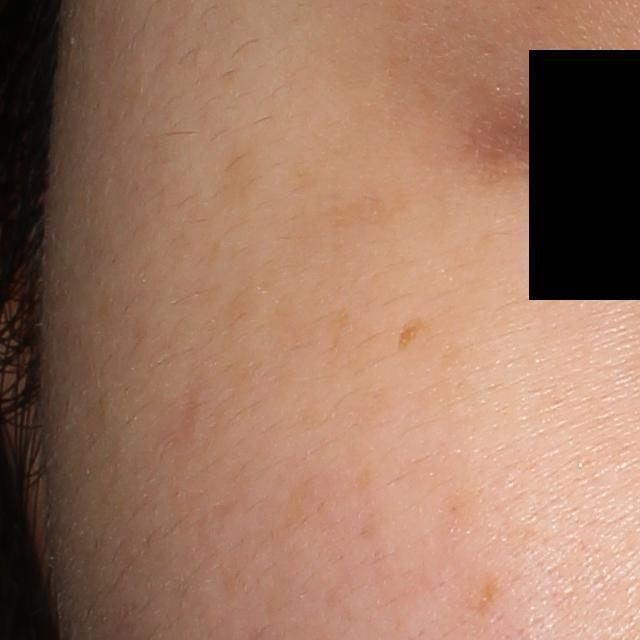melasma: (320, 185, 421, 229), (278, 468, 333, 532), (215, 282, 266, 348), (214, 143, 262, 209), (472, 568, 505, 620)
